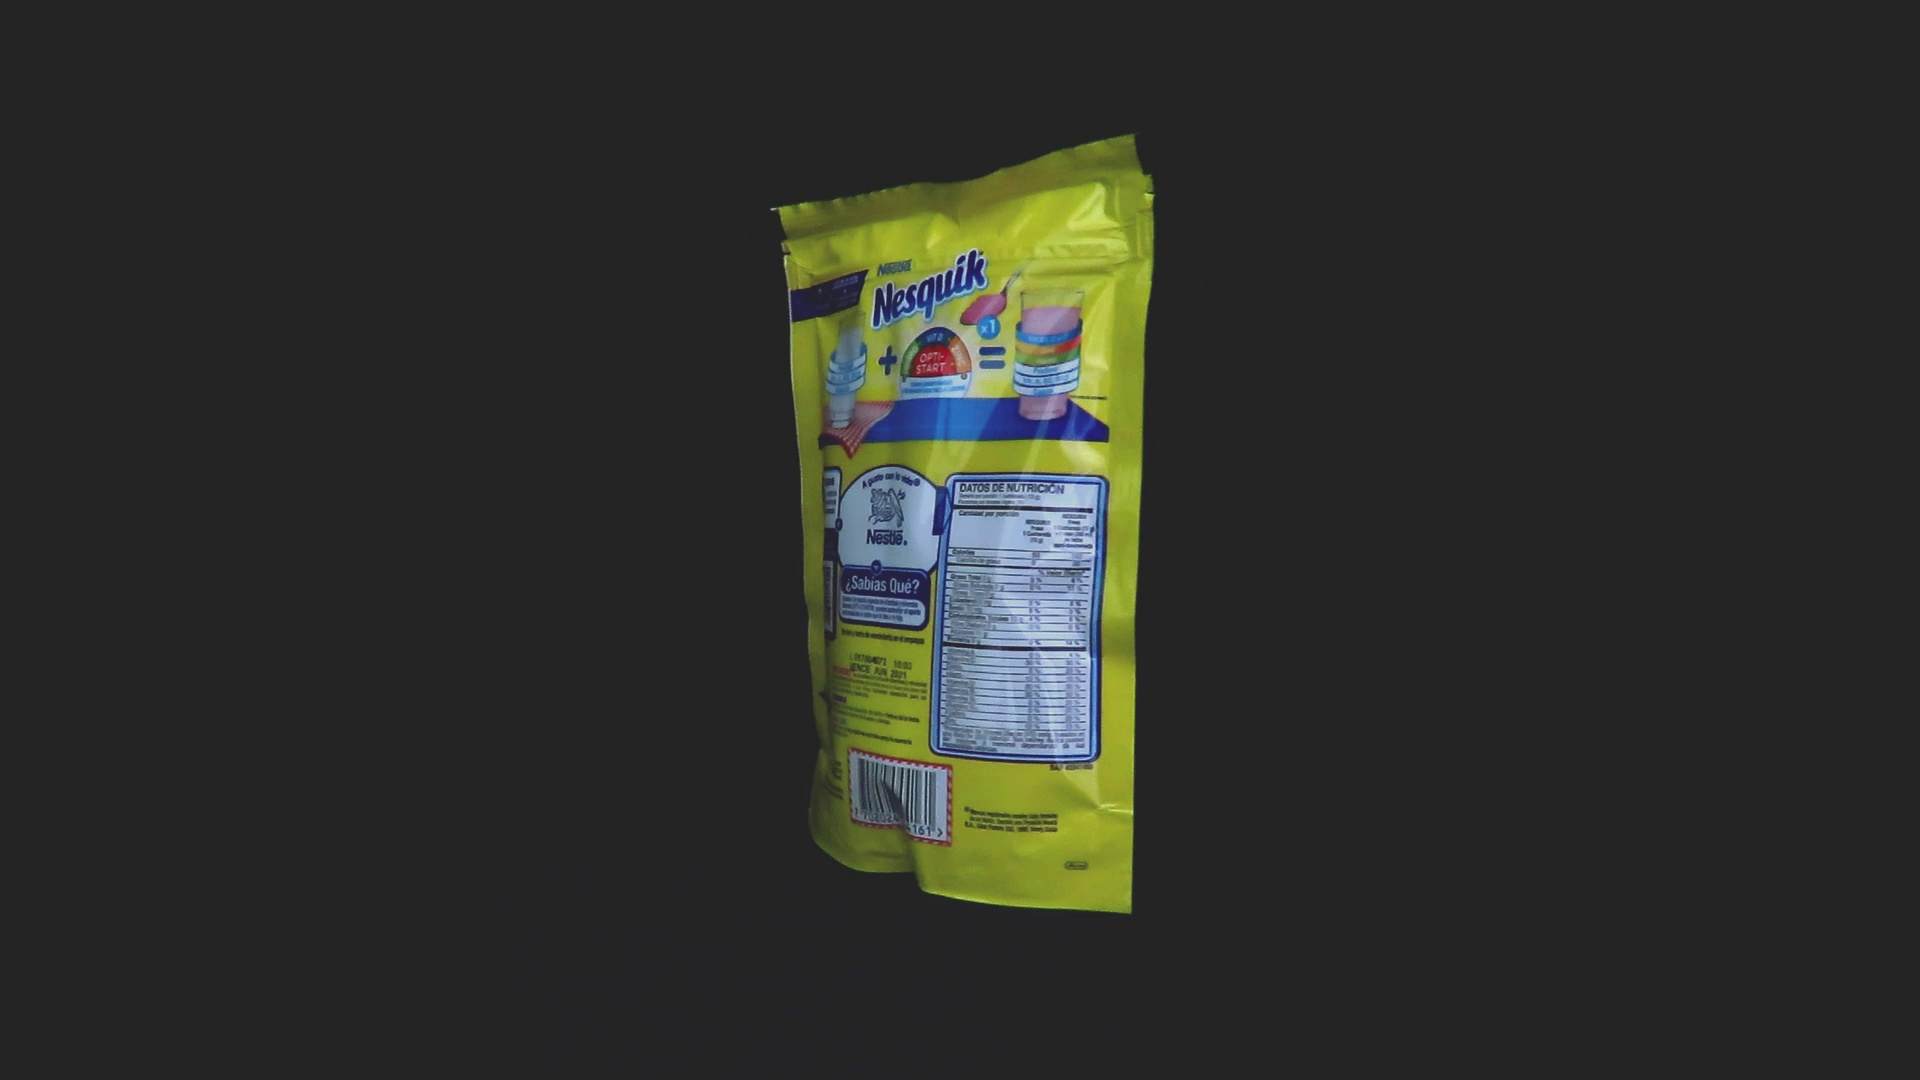COL0170305DYP20000: (765, 129, 1160, 920)
